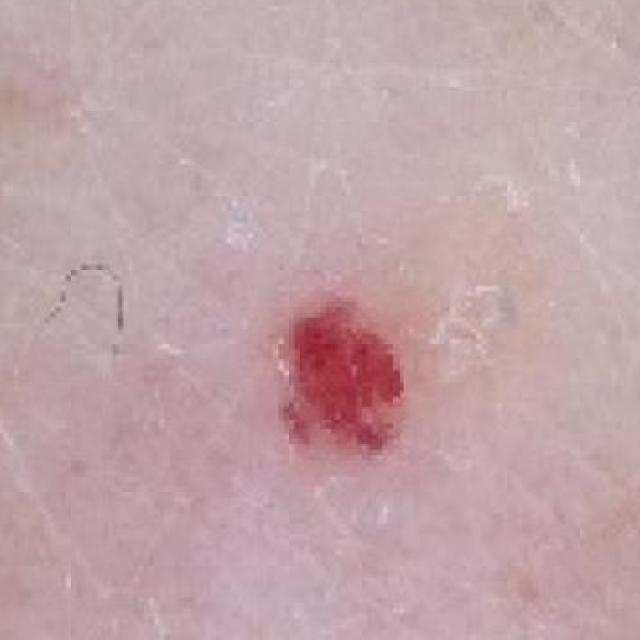VASC: (236, 218, 484, 545)
